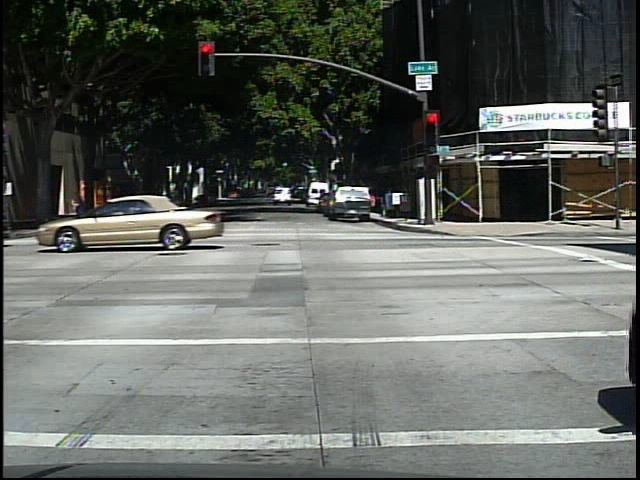person: (66, 185, 101, 238)
